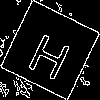H: (25, 24, 78, 82)
